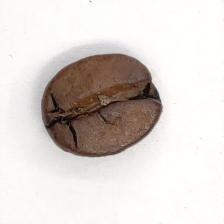NG: (50, 86, 144, 133)
